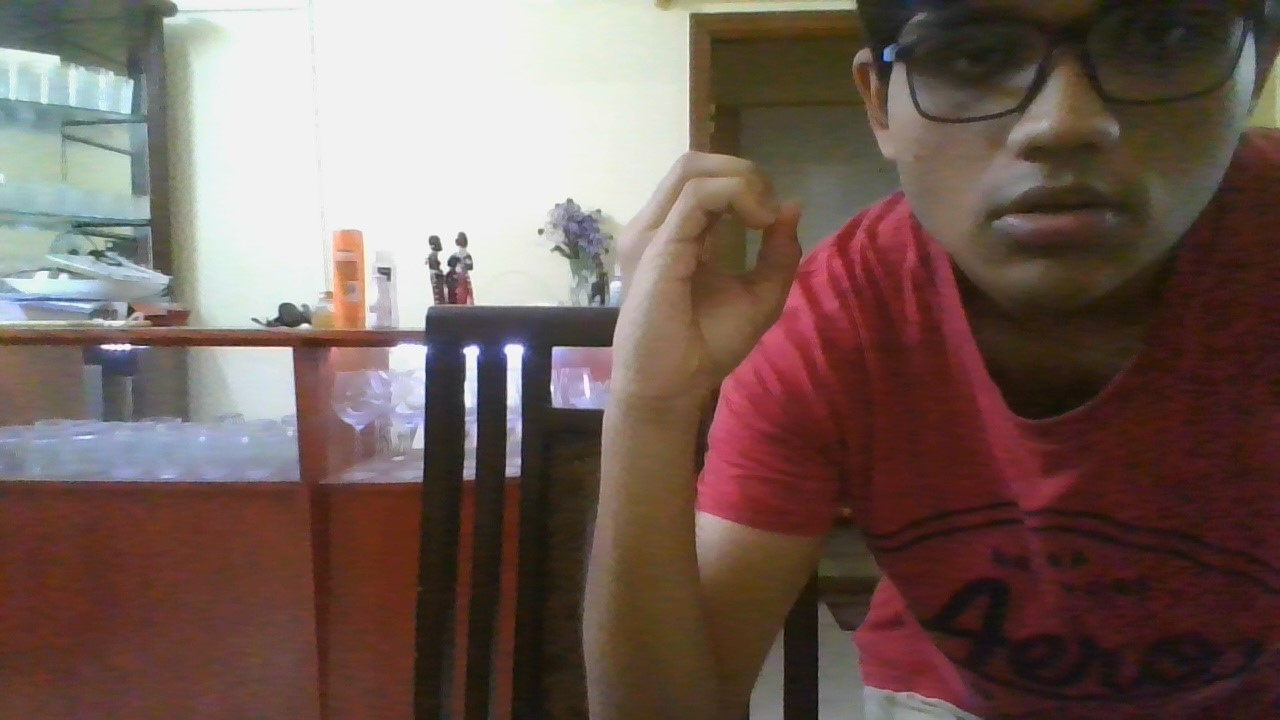o: (602, 148, 807, 396)
